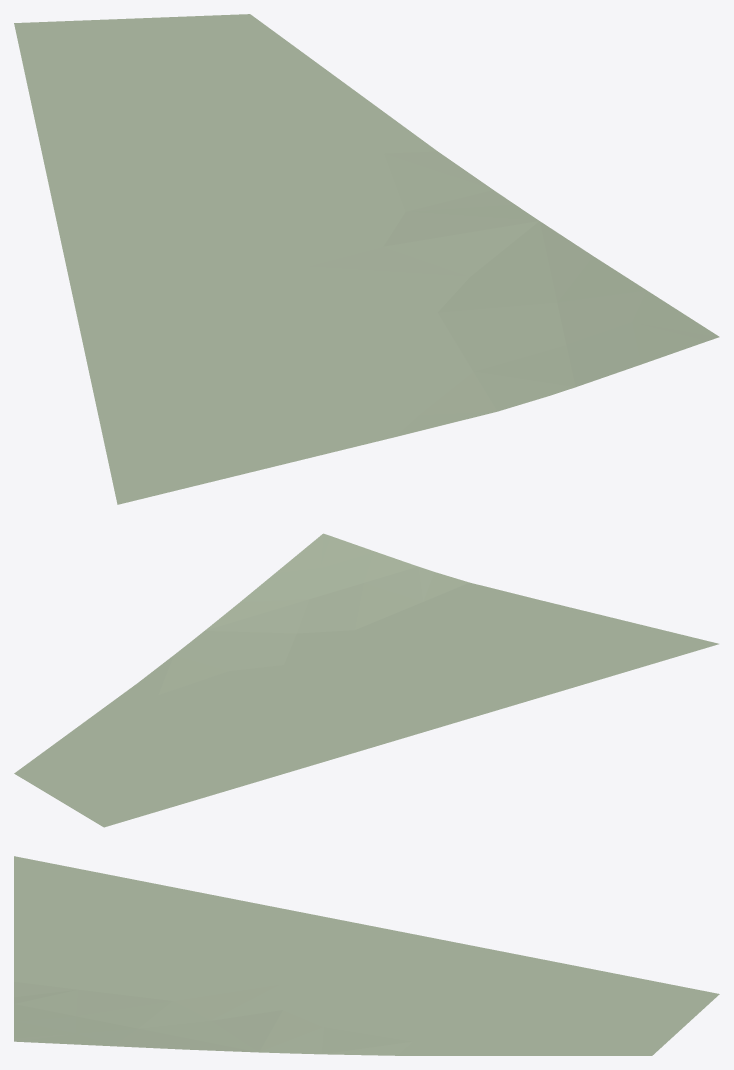
Rendered from SM_MPRR_Terrain_-3_5.fbx.
The picture shows the model from 3 angles, top to bottom: view 1: azimuth 30°, elevation 25°; view 2: azimuth 150°, elevation 25°; view 3: azimuth 270°, elevation 25°; orthographic projection. The views are drawn at different scales.
Visible parts, largest first — view 1: SM_MPRR_Terrain_-3_5; view 2: SM_MPRR_Terrain_-3_5; view 3: SM_MPRR_Terrain_-3_5.
Part boxes in pixels (x1=…): SM_MPRR_Terrain_-3_5: x1=14, y1=14, x2=719, y2=504; SM_MPRR_Terrain_-3_5: x1=14, y1=533, x2=718, y2=827; SM_MPRR_Terrain_-3_5: x1=14, y1=856, x2=719, y2=1055.
Size of the model in its own units: 5687 by 8495 by 188.
